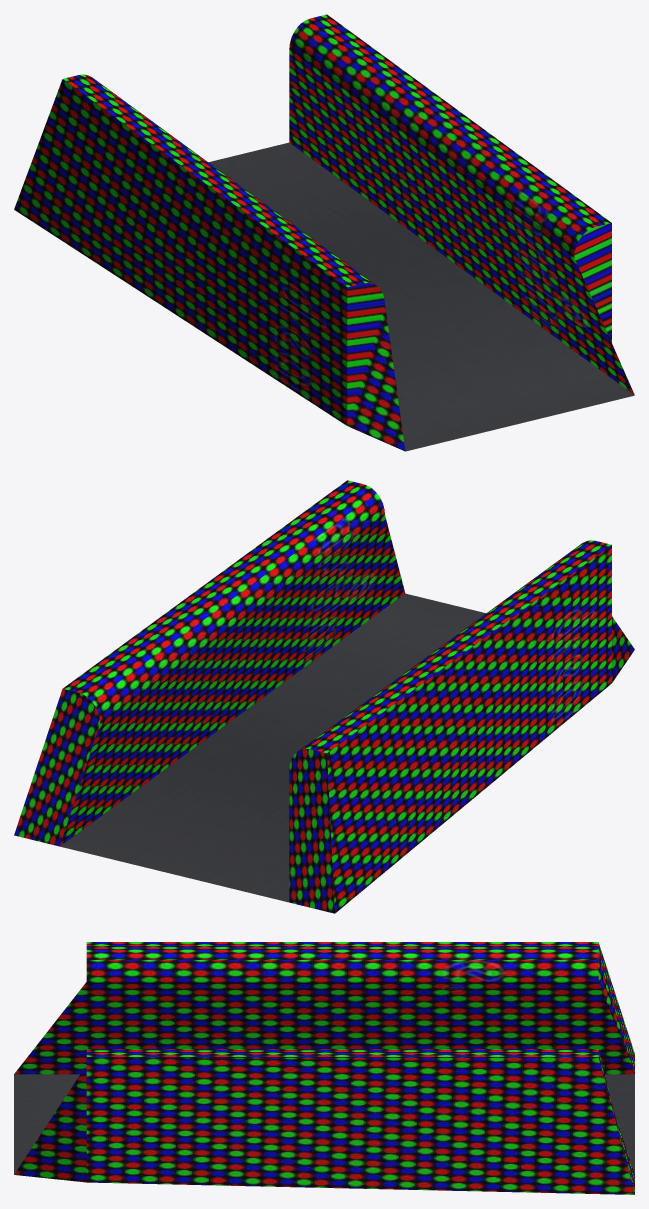
File: end point.fbx
The picture shows the model from 3 angles, top to bottom: view 1: azimuth 30°, elevation 25°; view 2: azimuth 150°, elevation 25°; view 3: azimuth 270°, elevation 25°; orthographic projection. The views are drawn at different scales.
Parts seen in each view (by area): view 1: Plane, Plane.008; view 2: Plane, Plane.008; view 3: Plane, Plane.008.
Part boxes in pixels (bbox=[...]): Plane: bbox=[14, 14, 634, 451]; Plane.008: bbox=[208, 142, 634, 451]; Plane: bbox=[14, 480, 634, 913]; Plane.008: bbox=[60, 593, 485, 902]; Plane: bbox=[14, 942, 634, 1194]; Plane.008: bbox=[14, 1074, 634, 1174].
Bounding box in the file's own units: 18625 × 7691 × 34743.
